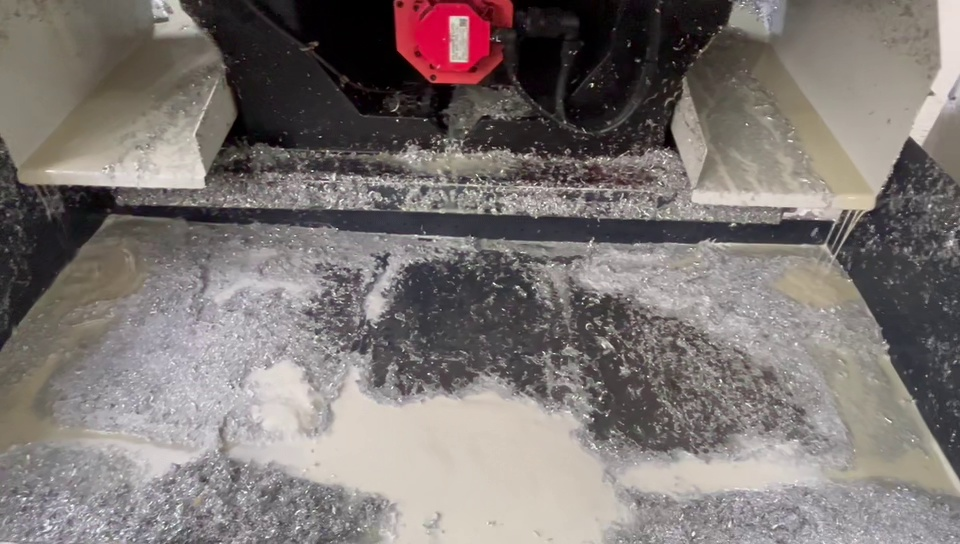iron_scrap: (108, 220, 336, 433), (1, 440, 376, 541), (577, 237, 869, 344), (617, 477, 952, 543), (212, 143, 366, 212), (48, 343, 106, 422)
